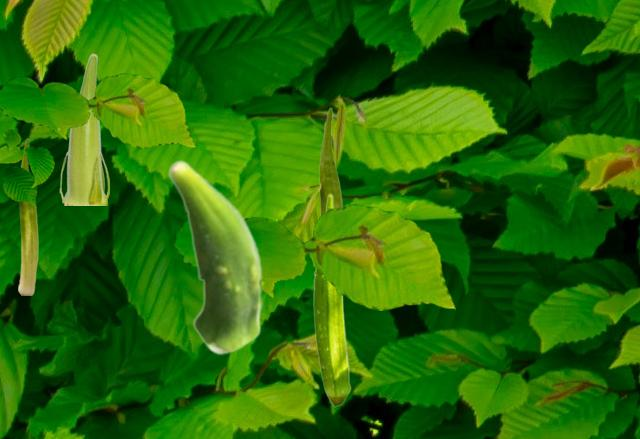okra: (167, 159, 263, 354), (313, 193, 350, 406), (59, 53, 108, 204), (18, 138, 37, 294), (318, 107, 343, 214)
